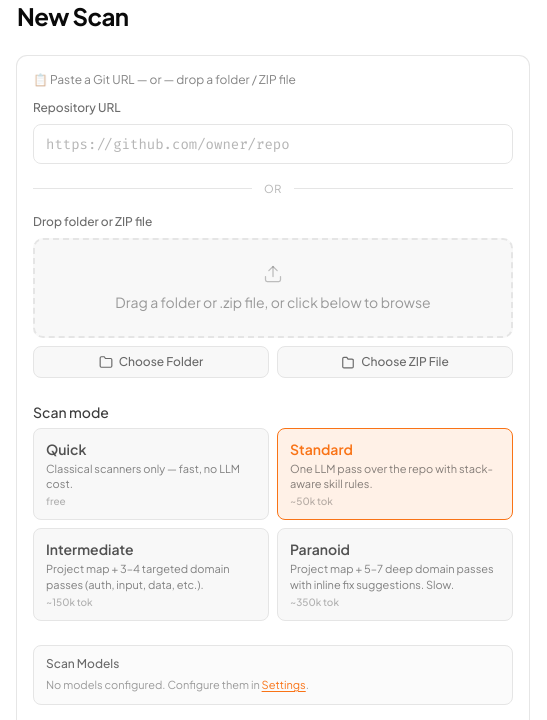
Test case: NewScanPage › shows error when API returns failure
The width and height of the screenshot is (547, 720).
Type "https://github.com/user/repo" into the field with placeholder "https://github.com/owner/repo" at (273, 144), box 33,124 -> 513,164
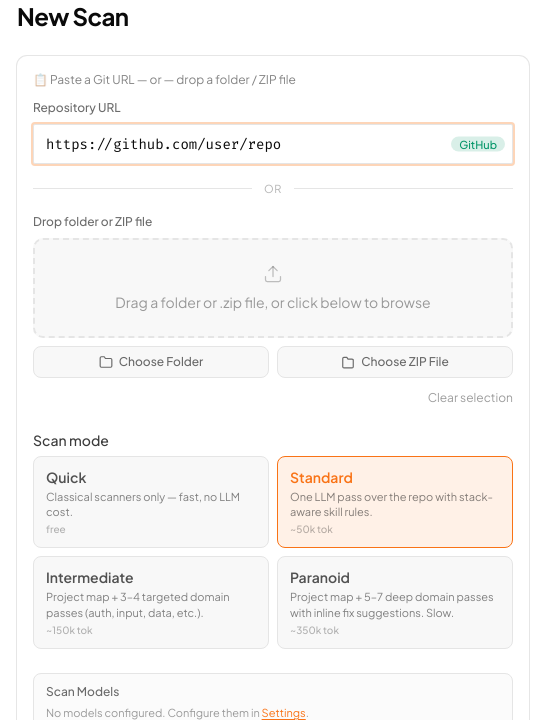
Press Tab
(page scrolled)
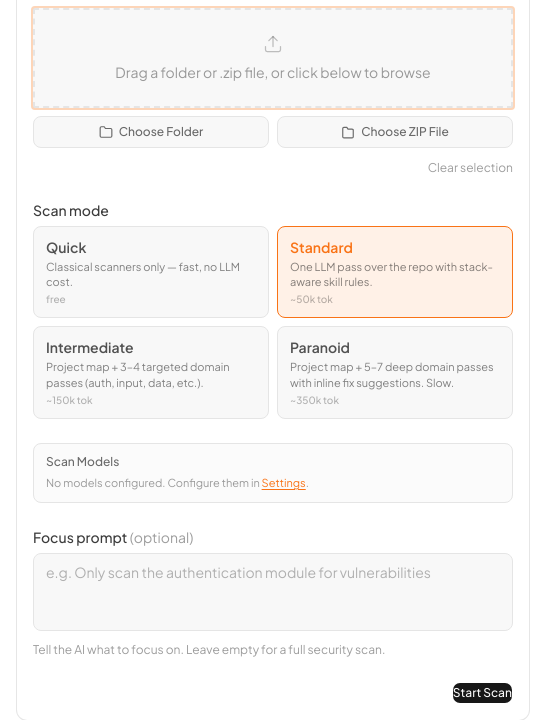
Result: the button "Start Scan" is enabled
Click the button "Start Scan" at (482, 693), box 452,682 -> 513,704
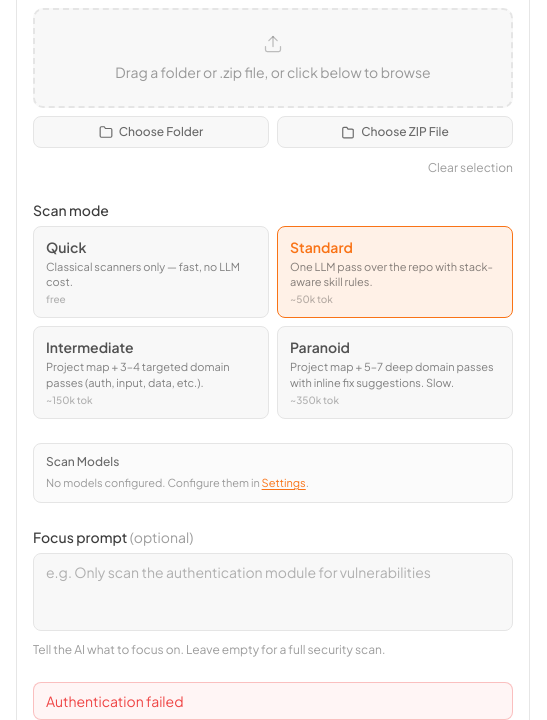
Result: the text "Authentication failed" is shown at 33,682 -> 513,719
